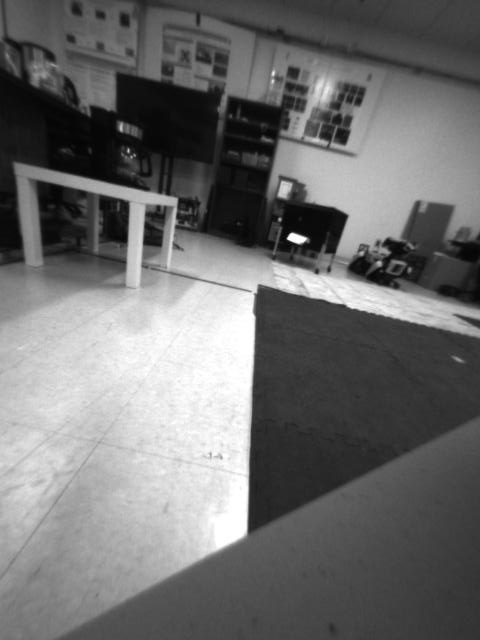coffee_pot: (103, 108, 154, 192)
